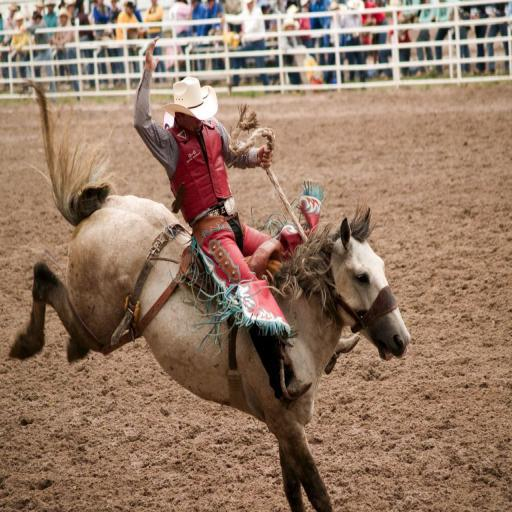Horse: (10, 76, 412, 511)
